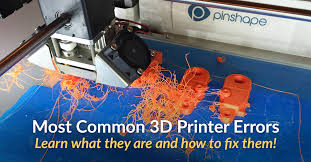fail: (129, 60, 234, 123), (40, 69, 122, 120), (5, 60, 33, 88)
